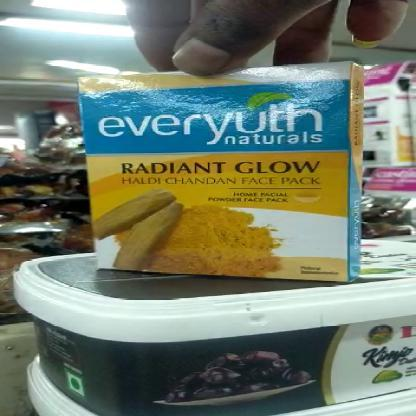EY HALDICHANDAN FP HF POWDER 25G: (86, 70, 352, 274)
